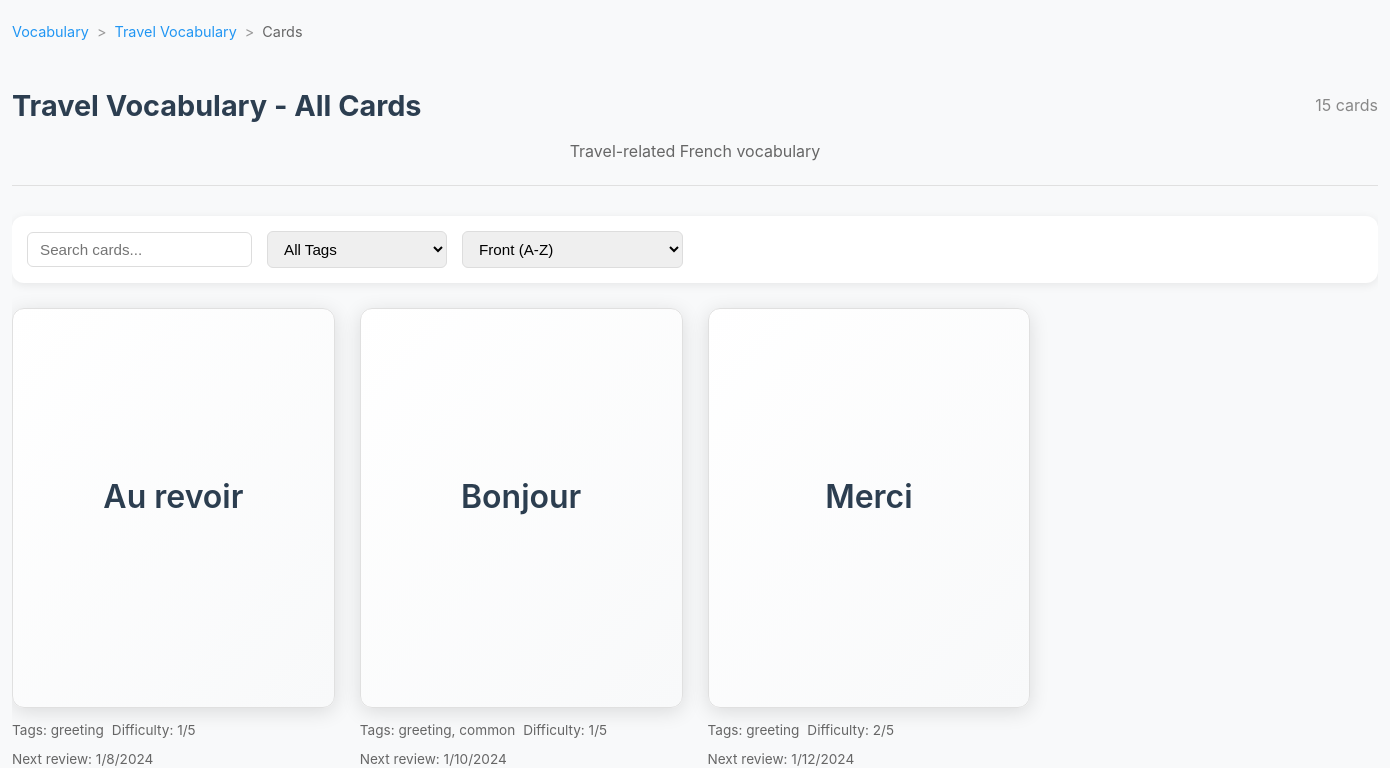
Test: DeckCardsPage Component › displays no results message when filters match no cards
The width and height of the screenshot is (1390, 768).
Type a search query that doesn't match any cards
Type "Nonexistent" into the field with test id "deck-cards-search-input". click: (140, 249)
box: [27, 232, 252, 267]
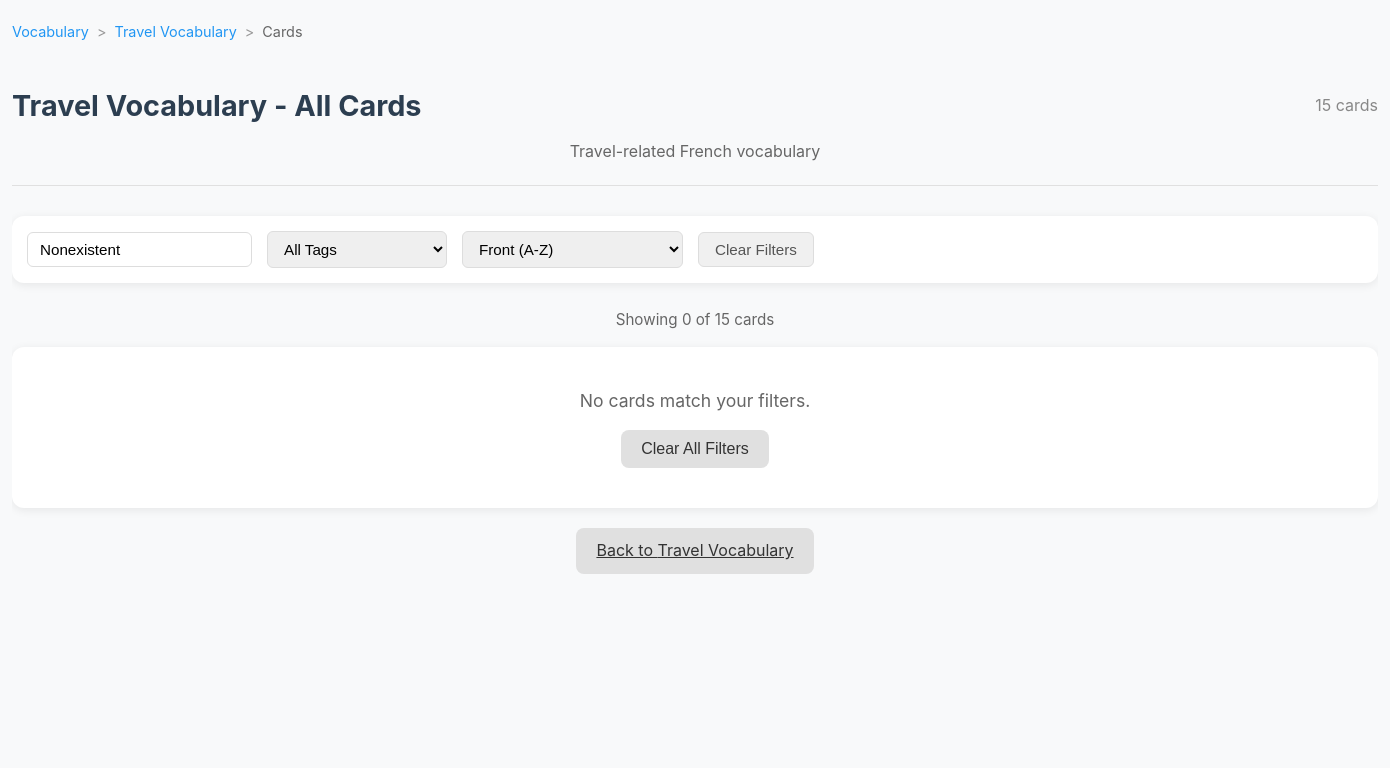
Expected: the element with test id "deck-cards-empty" is shown, [12, 347, 1378, 508]
Expected: the text "No cards match your filters." is shown, [580, 390, 810, 411]
Expected: the button with test id "deck-cards-clear-all-filters" is shown, [621, 430, 769, 468]
